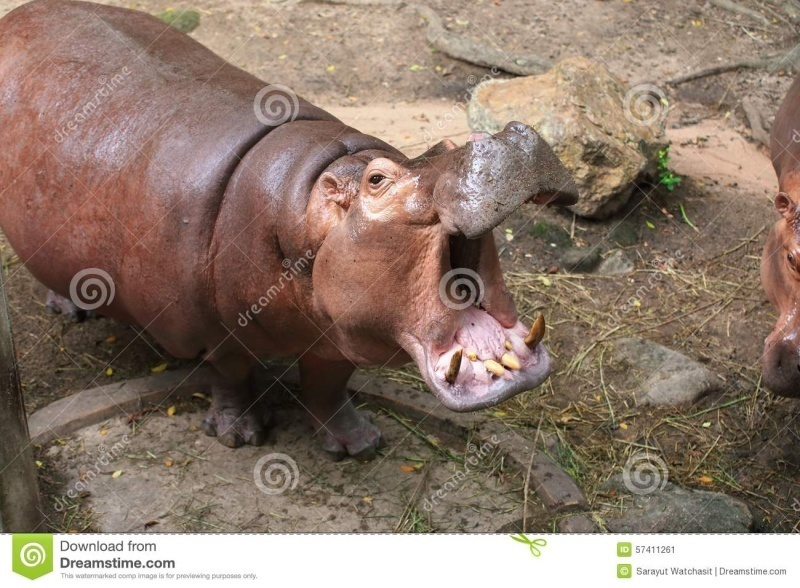hipopotamo: (3, 0, 574, 451)
